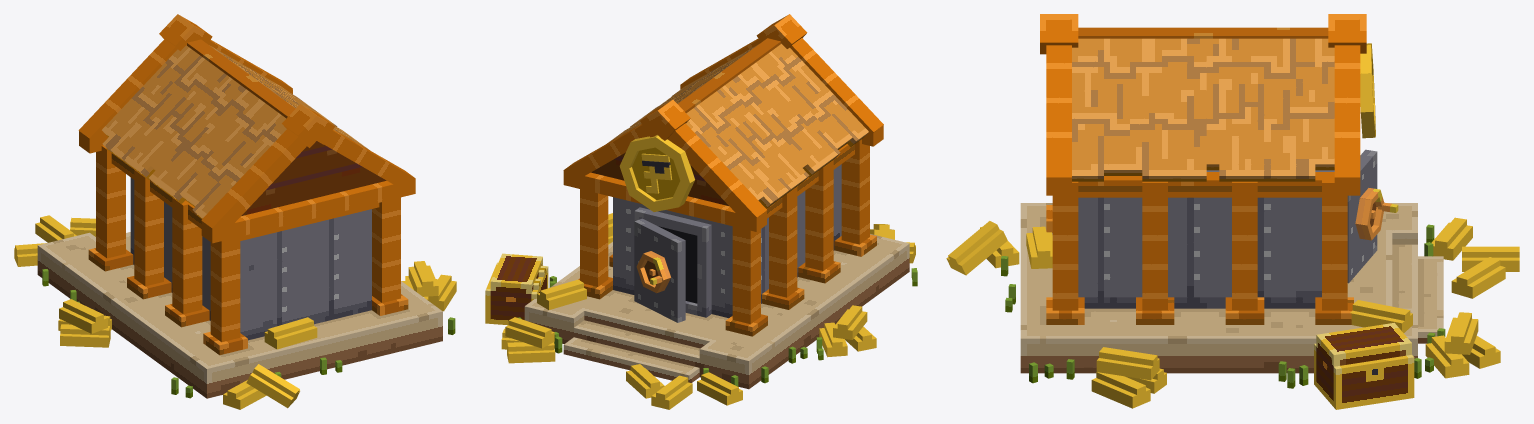
File: b_bank.gltf
The picture shows the model from 3 angles, left to right: view 1: azimuth 30°, elevation 25°; view 2: azimuth 150°, elevation 25°; view 3: azimuth 270°, elevation 25°; orthographic projection. The views are drawn at different scales.
Parts seen in each view (by area): view 1: House01-Local, flood01-Local, Watts04-Local, wood04-Local, Wood10-Local, Wood09-Local, Wood07-Local, Watts01-Local, Wood08-Local, Gold03$$(3)-Local, GOld6-Local, Gold03$$(2)-Local (+11 smaller); view 2: House01-Local, flood01-Local, Watts04-Local, Door01-Local, BOX01-Local, Wood07-Local, Wood01-Local, Wood09-Local, Watts01-Local, Wood05-Local, wood04-Local, Ruby01-Local (+21 smaller); view 3: House01-Local, Watts02-Local, flood01-Local, BOX01-Local, Wood05-Local, Wood08-Local, Watts01-Local, Door01-Local, Gold03$$(3)-Local, Gold03$$(1)-Local, Gold04-Local, Gold07-Local (+11 smaller).
Part boxes in pixels (x1,y1,x2,y2): House01-Local: [88, 145, 408, 355]; flood01-Local: [37, 232, 442, 398]; Watts04-Local: [102, 45, 286, 218]; wood04-Local: [241, 141, 386, 215]; Wood10-Local: [201, 179, 415, 243]; Wood09-Local: [201, 129, 306, 237]; Wood07-Local: [78, 39, 177, 147]; Watts01-Local: [187, 39, 295, 118]; Wood08-Local: [324, 129, 415, 188]; Gold03$$(3)-Local: [246, 364, 299, 408]; GOld6-Local: [264, 317, 317, 349]; Gold03$$(2)-Local: [59, 299, 107, 333]; House01-Local: [578, 139, 876, 336]; flood01-Local: [524, 234, 909, 389]; Watts04-Local: [686, 43, 868, 208]; Door01-Local: [634, 218, 685, 322]; BOX01-Local: [485, 253, 548, 325]; Wood07-Local: [667, 123, 766, 217]; Wood01-Local: [563, 171, 766, 231]; Wood09-Local: [790, 38, 883, 132]; Watts01-Local: [678, 38, 780, 113]; Wood05-Local: [563, 124, 648, 182]; wood04-Local: [591, 152, 728, 205]; Ruby01-Local: [537, 279, 586, 309]; House01-Local: [1046, 170, 1353, 324]; Watts02-Local: [1072, 38, 1334, 181]; flood01-Local: [1020, 203, 1443, 373]; BOX01-Local: [1314, 322, 1414, 409]; Wood05-Local: [1334, 45, 1360, 177]; Wood08-Local: [1046, 45, 1071, 177]; Watts01-Local: [1078, 27, 1328, 38]; Door01-Local: [1347, 149, 1377, 283]; Gold03$$(3)-Local: [946, 221, 1007, 275]; Gold03$$(1)-Local: [1096, 347, 1159, 380]; Gold04-Local: [1091, 372, 1150, 408]; Gold07-Local: [1451, 257, 1505, 298].
Bounding box in the file's own units: 75.38 × 50.31 × 89.42.
80 materials, 80 textured.
